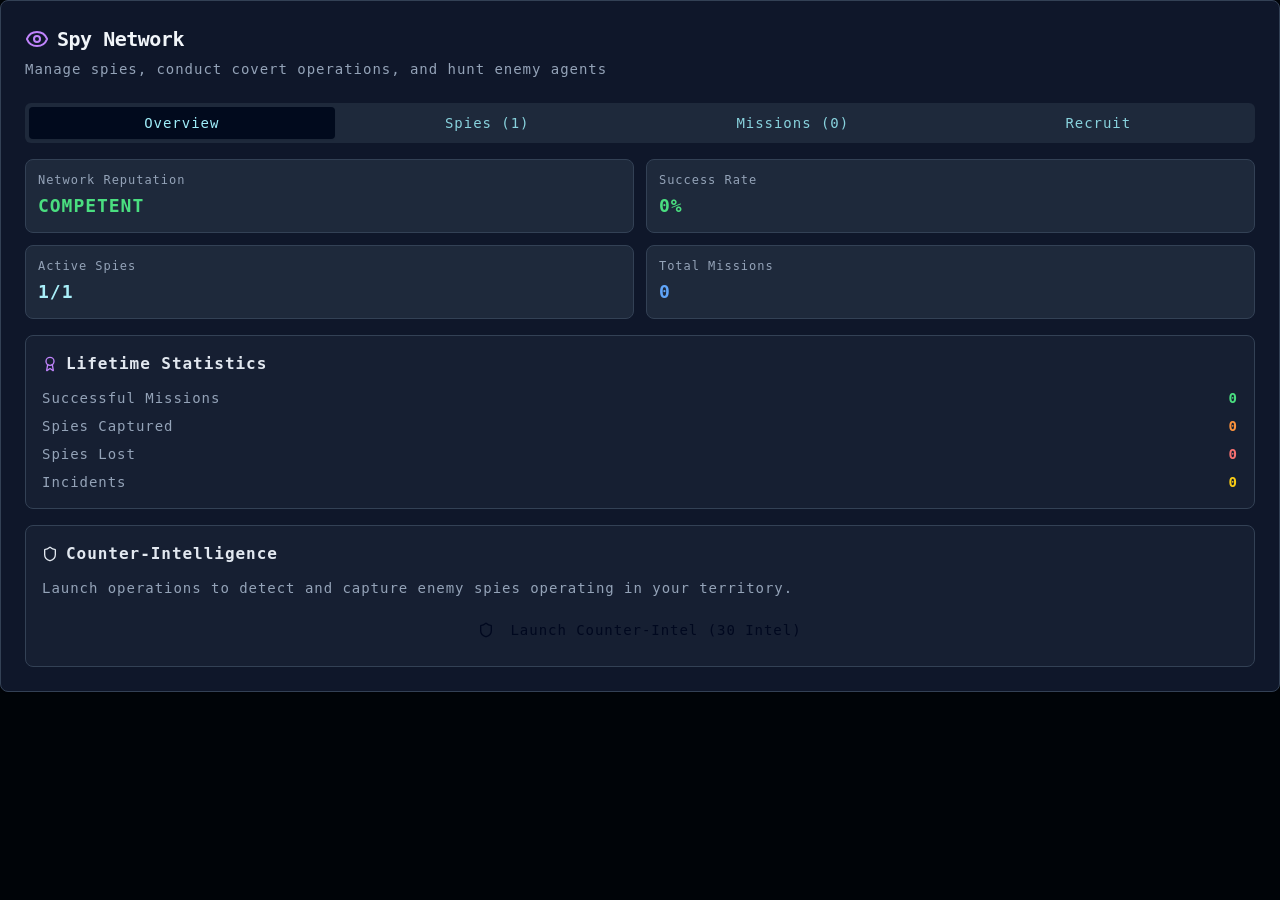
Scenario: SpyNetworkPanel interactions › keeps the spy selected and opens missions tab when assigning a mission
Click the tab "Spies (1)" at {"x": 487, "y": 123}, box left=334, top=107, right=640, bottom=139
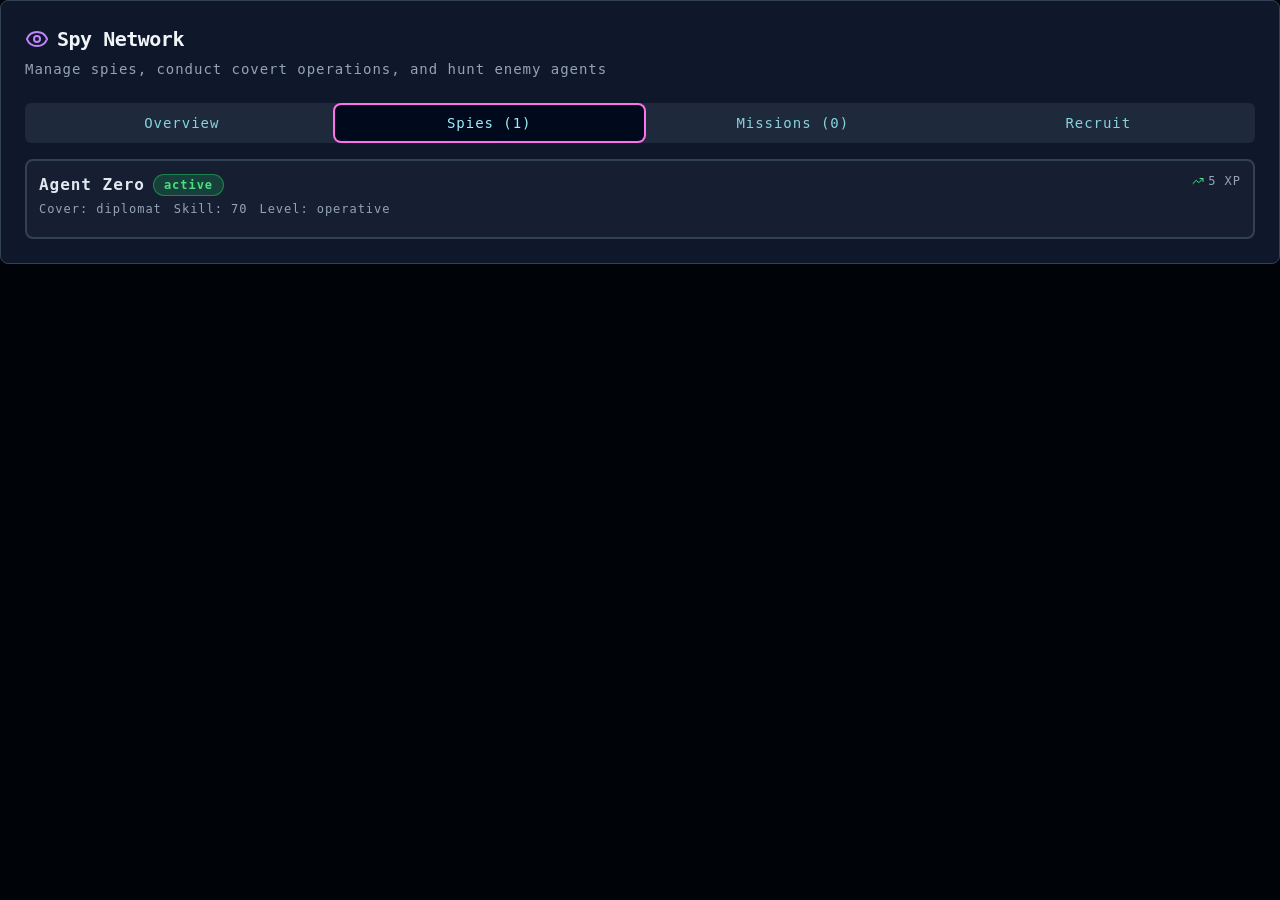
Click the text "Agent Zero" at {"x": 92, "y": 185}, box left=39, top=173, right=145, bottom=197
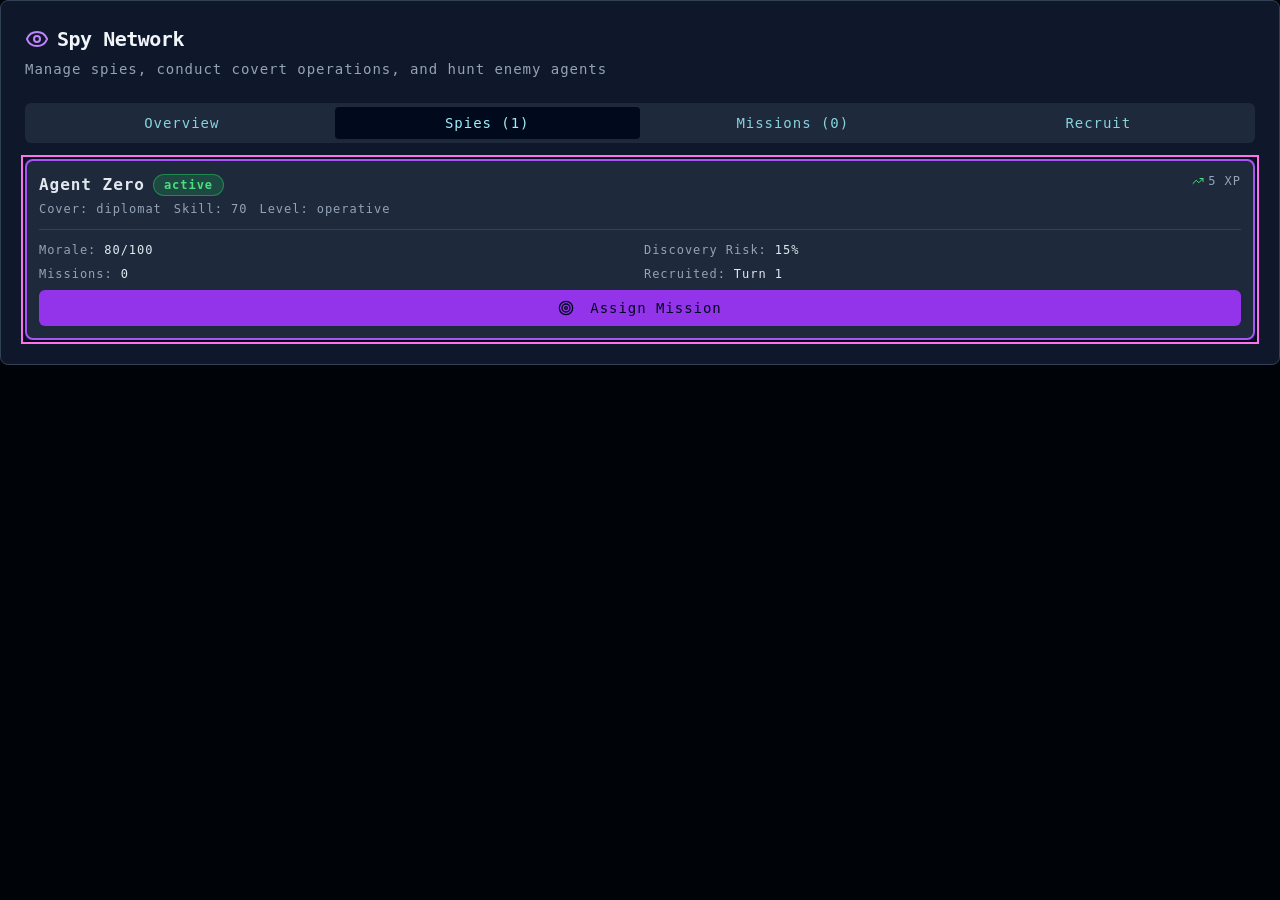
Click the button "Assign Mission" at {"x": 640, "y": 308}, box left=39, top=290, right=1241, bottom=326
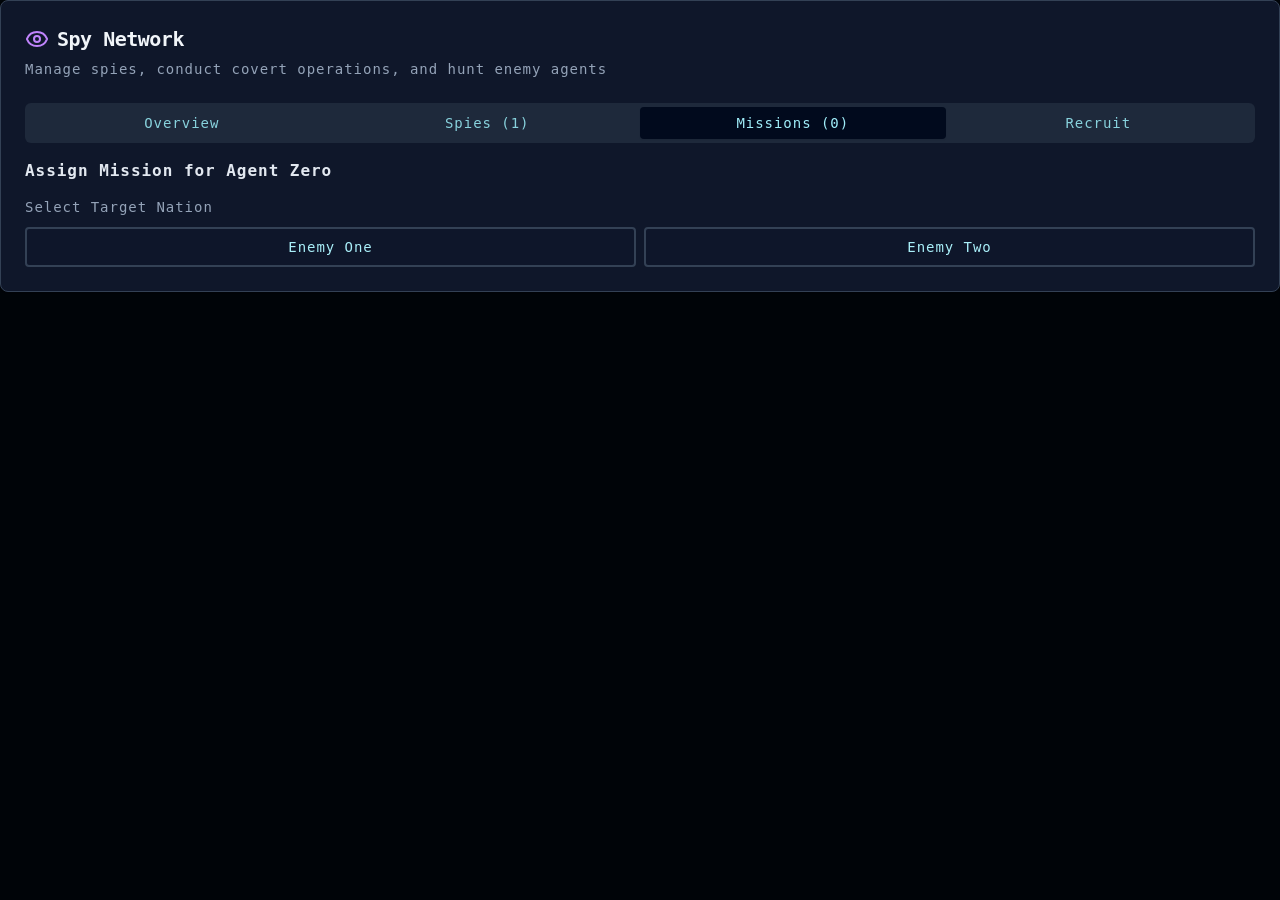
Check: the heading "Assign Mission for Agent Zero" is shown, box left=25, top=161, right=332, bottom=180
Check: the button "Enemy One" is shown, box left=25, top=227, right=636, bottom=267
Check: the button "Enemy Two" is shown, box left=644, top=227, right=1255, bottom=267
